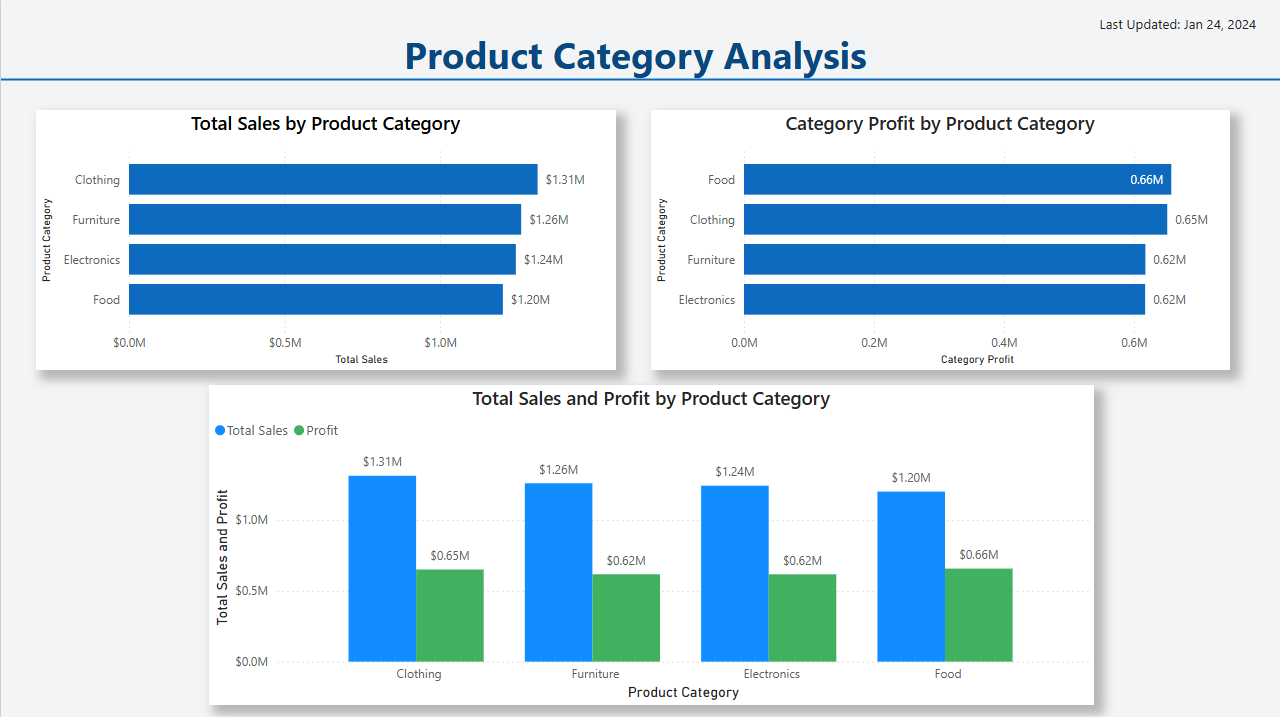

What the dashboard file says about the page in this screenshot:
{"tool":"powerbi","page":{"name":"Product Analysis","canvas":[1280,720],"ordinal":1},"visuals":[{"type":"textbox","box":[343.2,23.5,594.1,67.9],"z":0},{"type":"shape","box":[0,38.1,1280.4,83.3],"z":1000},{"type":"textbox","box":[1094.2,9.8,179.1,28.4],"z":2000},{"type":"clusteredBarChart","title":"Total Sales by Product Category","fields":{"Y":["DateTable.Total Sales"],"Category":["sales_data.Product_Category"]},"box":[35.3,110.5,579.6,259.9],"z":3000},{"type":"barChart","title":"Category Profit by Product Category","fields":{"Category":["sales_data.Product_Category"],"Y":["DateTable.Category Profit"]},"box":[650.3,110.5,579,259.9],"z":4000},{"type":"clusteredColumnChart","title":"Total Sales and Profit by Product Category","fields":{"Category":["sales_data.Product_Category"],"Y":["DateTable.Total Sales","DateTable.Profit"]},"box":[207.8,385.1,884.8,320],"z":5000}]}

Visuals, with their boxes in screenshot pixels (x1, y1, x2, y2), scaled from the page's 1280x720 canvas onto the 1280x717 screenshot:
textbox: pyautogui.locateOnScreen(343, 23, 937, 91)
shape: pyautogui.locateOnScreen(0, 38, 1279, 121)
textbox: pyautogui.locateOnScreen(1094, 10, 1273, 38)
"Total Sales by Product Category" clusteredBarChart: pyautogui.locateOnScreen(35, 110, 615, 369)
"Category Profit by Product Category" barChart: pyautogui.locateOnScreen(650, 110, 1229, 369)
"Total Sales and Profit by Product Category" clusteredColumnChart: pyautogui.locateOnScreen(208, 383, 1093, 702)
